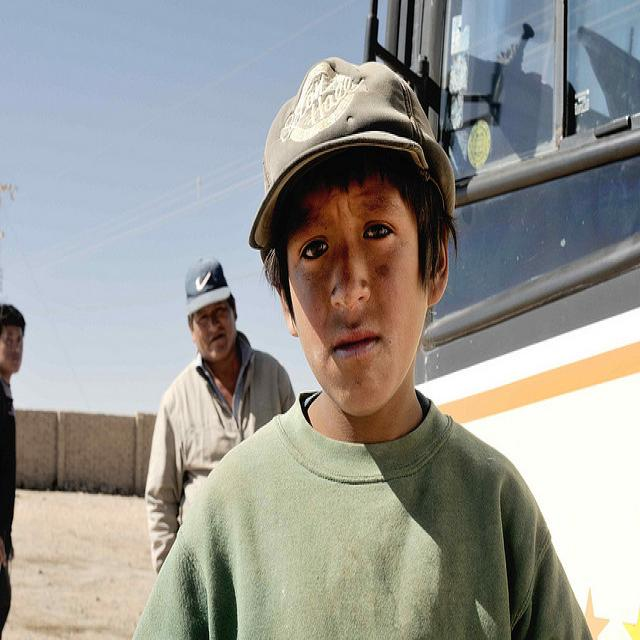Vehicle: (364, 4, 640, 627)
